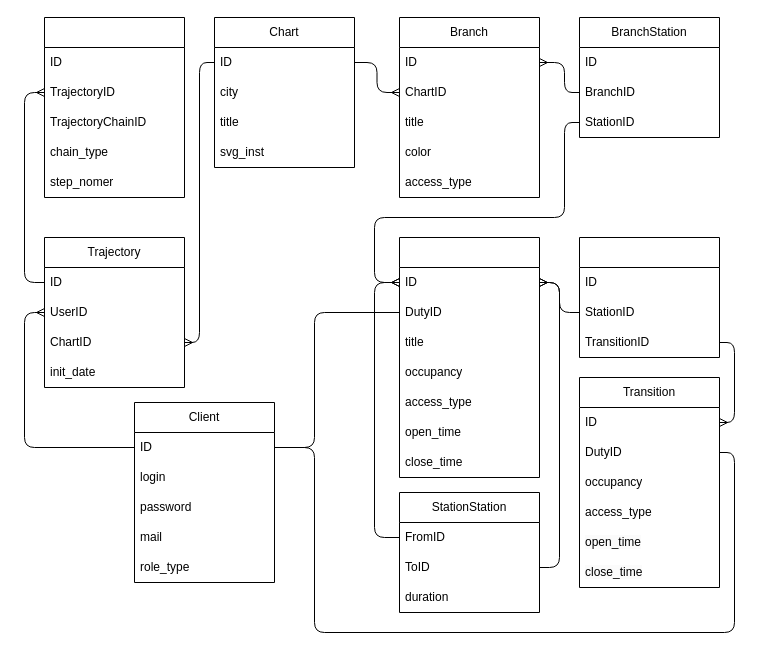
The diagram is 760 pixels wide and 651 high, and some of its shapes have lost their labels. Here are the shapes that lost their labels. From the top down, the box of each, then its label:
(44, 16, 184, 198): TrajectoryLead
(578, 236, 720, 358): StationTransition
(398, 236, 540, 478): Station
